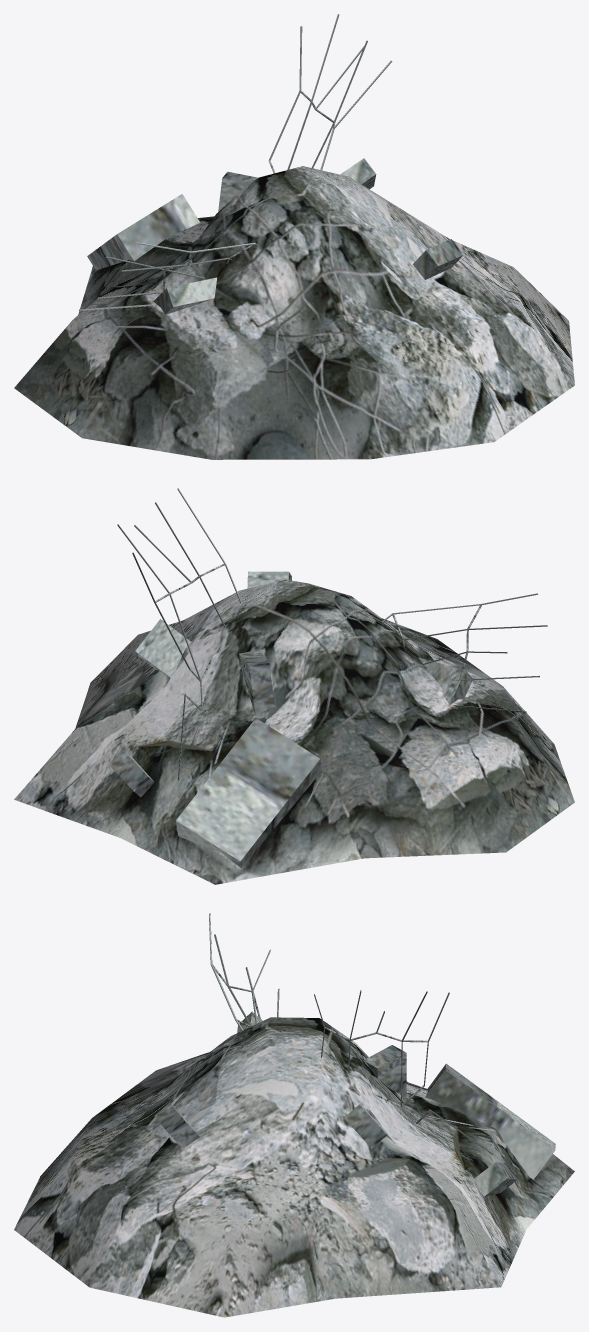
File: Rubble_Large.FBX
The picture shows the model from 3 angles, top to bottom: view 1: azimuth 30°, elevation 25°; view 2: azimuth 150°, elevation 25°; view 3: azimuth 270°, elevation 25°; orthographic projection.
Visible parts, largest first — view 1: Rubble; view 2: Rubble; view 3: Rubble.
Part boxes in pixels (x1=…): Rubble: x1=14, y1=14, x2=574, y2=459; Rubble: x1=14, y1=488, x2=574, y2=884; Rubble: x1=14, y1=913, x2=574, y2=1317.
Bounding box in the file's own units: 542 × 294 × 544.
